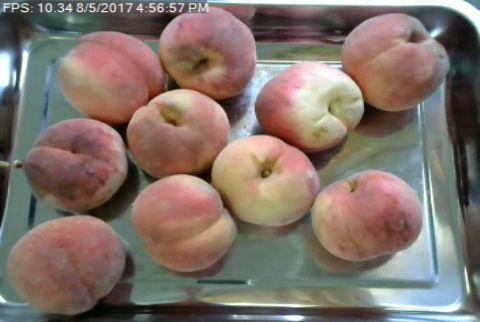Peach: (7, 215, 125, 314), (341, 11, 447, 113), (253, 60, 364, 154), (131, 173, 234, 274), (310, 169, 422, 261), (23, 118, 129, 211), (210, 135, 317, 227), (56, 29, 162, 121), (125, 88, 231, 177), (159, 6, 257, 99)
